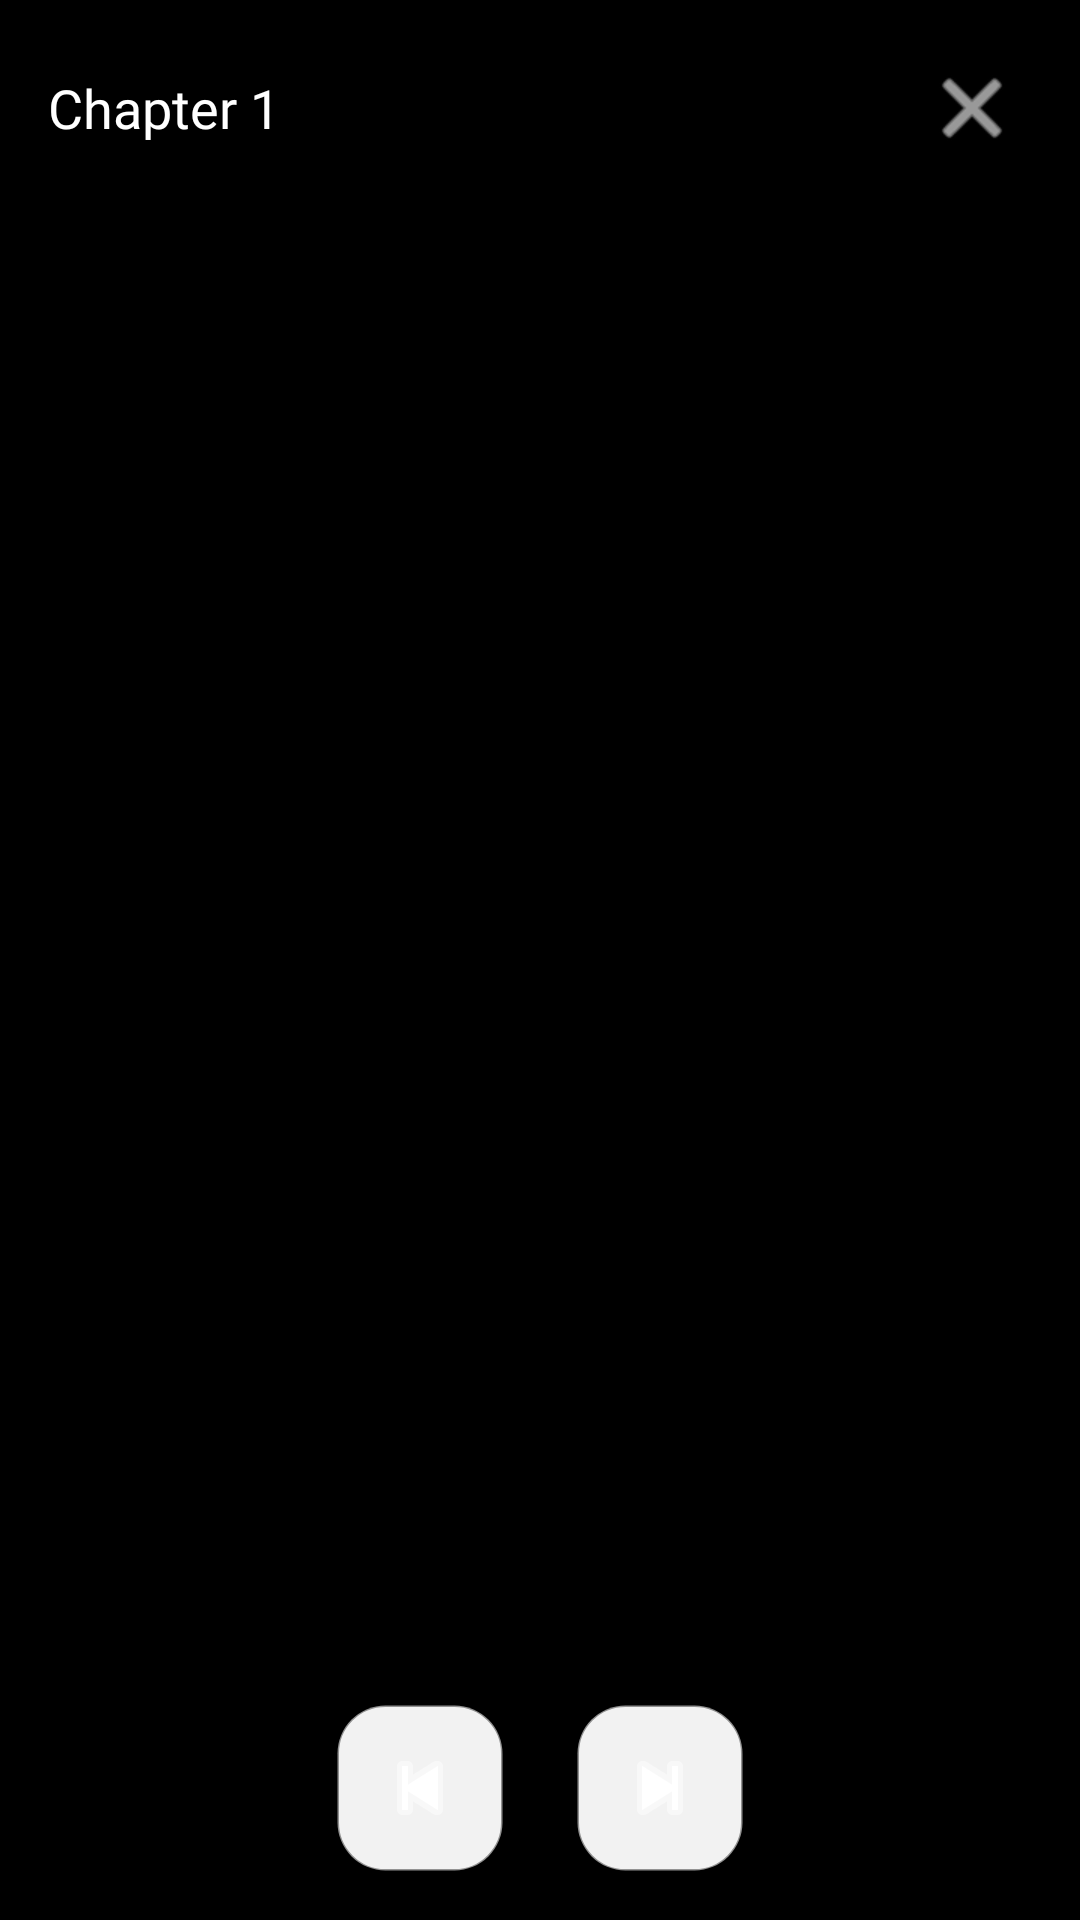

Icon bounding boxes for this 1080 × 1920 phone screenshot, format region(x1, y1, x2, y2):
Close: region(942, 78, 1002, 138)
Next Chapter: region(577, 1705, 743, 1871)
Previous Chapter: region(337, 1705, 503, 1871)
